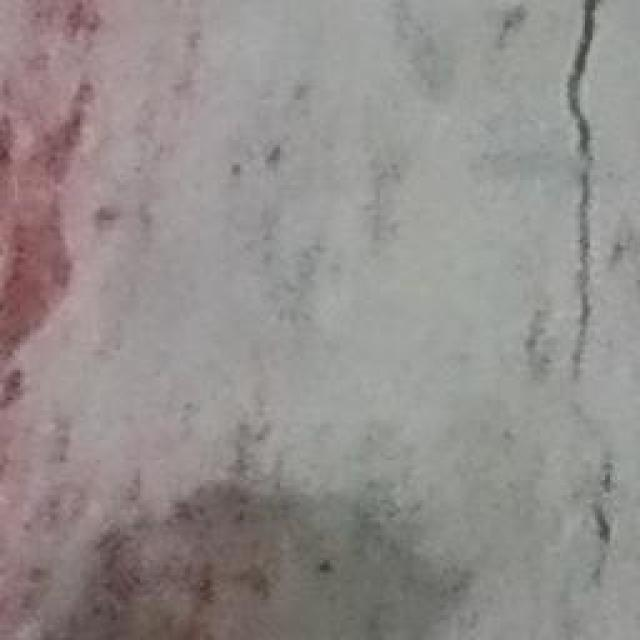Longitudinal: (538, 12, 628, 640)
Rippled: (0, 0, 102, 640)
